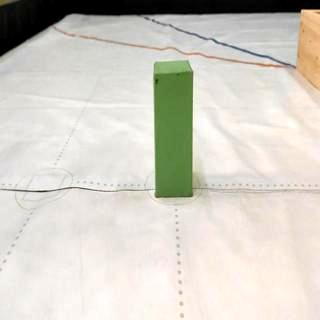greenbox: (152, 61, 193, 199)
